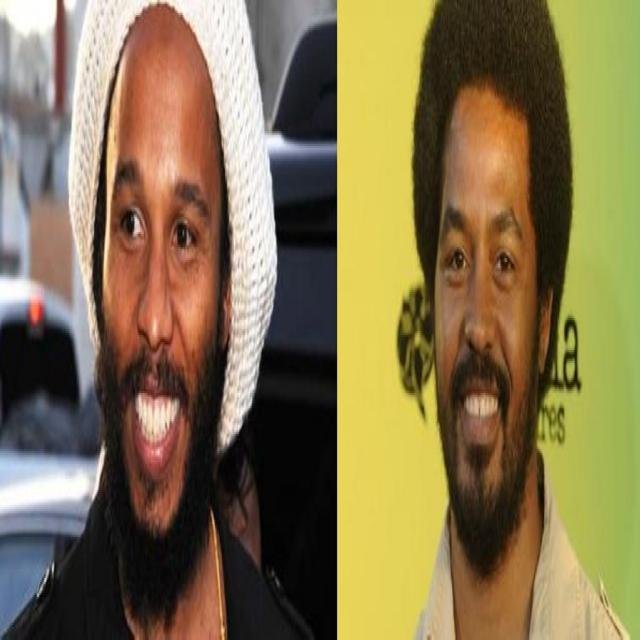nomask: (102, 15, 222, 565), (435, 79, 539, 565)
